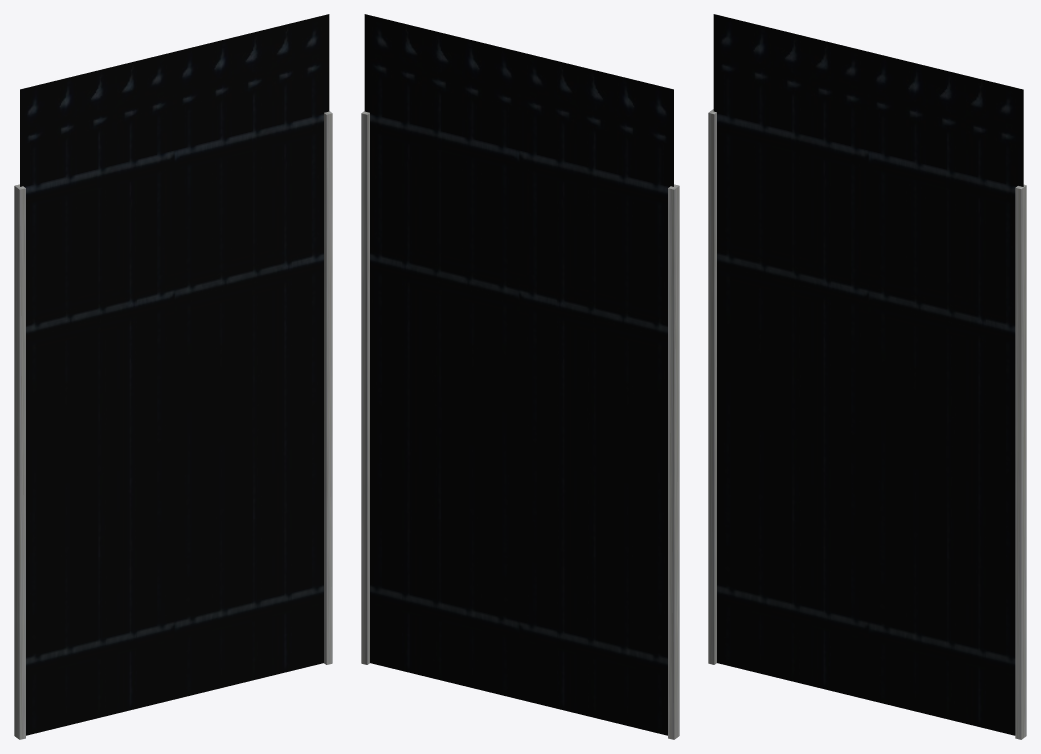
Rendered from english_wall_gate.fbx.
3 views of the same model, side by side, from view 1: azimuth 30°, elevation 25°; view 2: azimuth 150°, elevation 25°; view 3: azimuth 330°, elevation 25° (orthographic).
Visible parts, largest first — view 1: pPlane1, pCube2, pCube3; view 2: pPlane1, pCube2, pCube3; view 3: pPlane1, pCube3, pCube2.
Part boxes in pixels (bbox=[...]): pPlane1: bbox=[20, 14, 329, 735]; pCube2: bbox=[14, 184, 25, 739]; pCube3: bbox=[324, 111, 332, 664]; pPlane1: bbox=[364, 14, 673, 735]; pCube2: bbox=[668, 184, 679, 739]; pCube3: bbox=[361, 111, 369, 664]; pPlane1: bbox=[713, 14, 1023, 735]; pCube3: bbox=[1015, 184, 1026, 739]; pCube2: bbox=[708, 109, 716, 664].
Size of the model in its own units: 1517 by 3000 by 45.73.
Materials: 2 (2 with a texture image).
